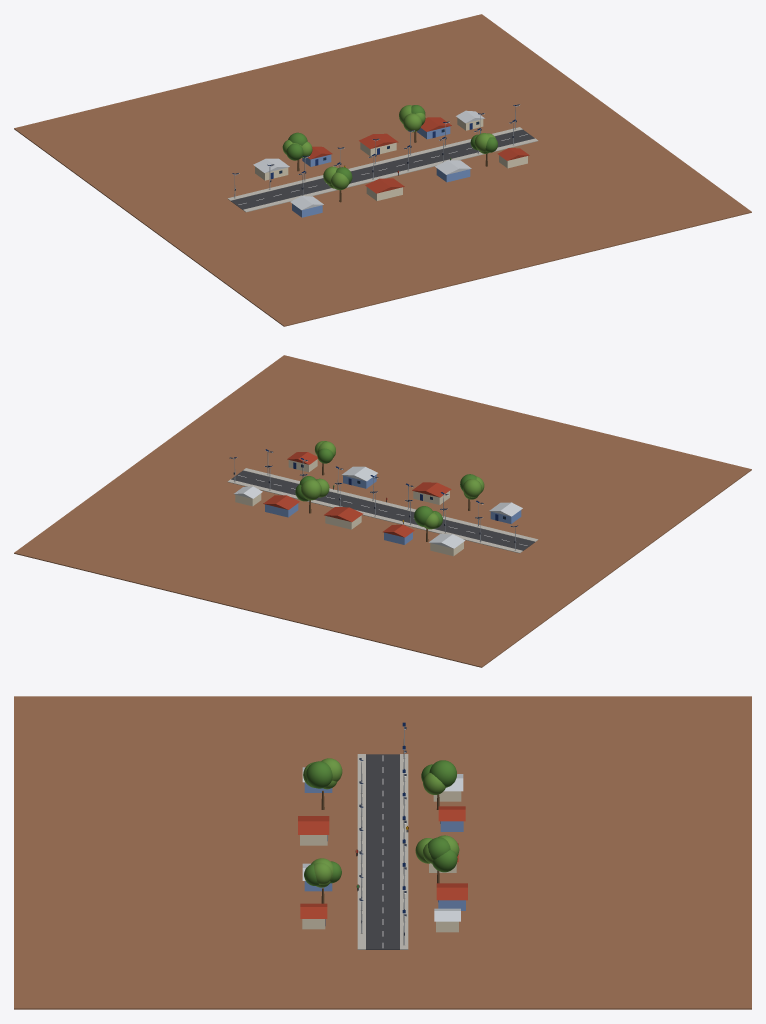
File: Eclairage_public_solaire.glb
3 renders of one model, top to bottom at view 1: azimuth 30°, elevation 25°; view 2: azimuth 150°, elevation 25°; view 3: azimuth 270°, elevation 25°, orthographic. The views are drawn at different scales.
Size of the model in its own units: 160 by 12.13 by 160.
